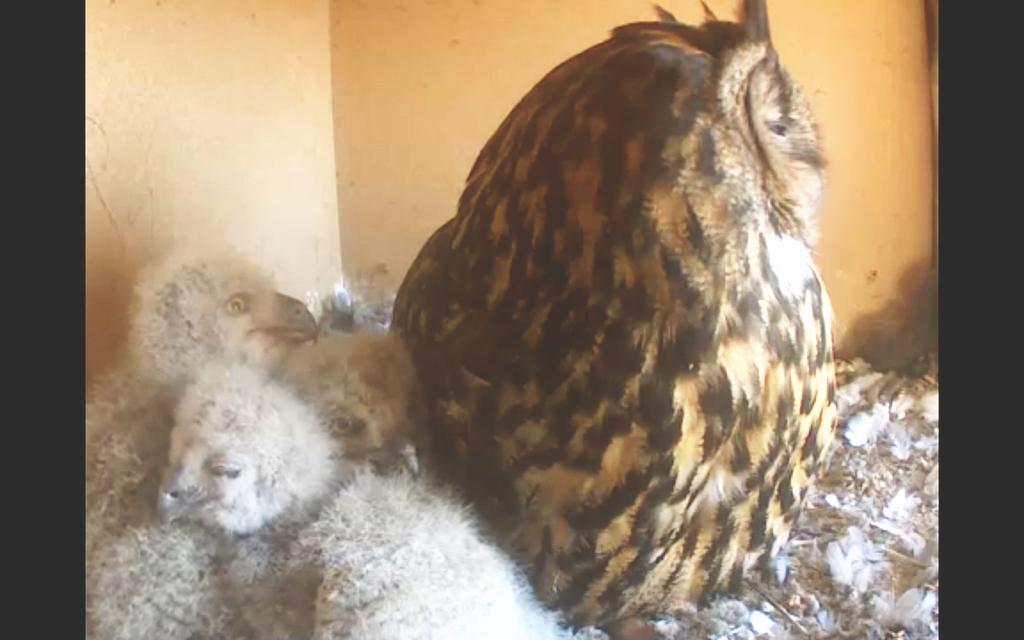Owl: (386, 1, 855, 640)
